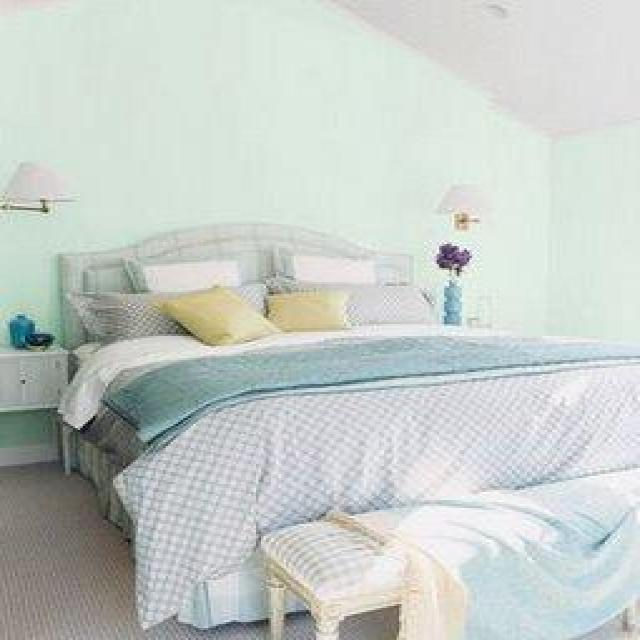bed: (55, 220, 638, 638)
lamps: (0, 160, 75, 214), (437, 184, 482, 230)
pots: (8, 312, 35, 348)
